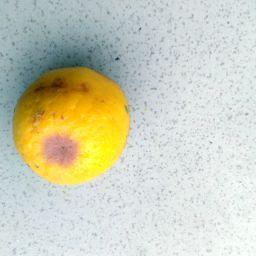Unripe: (12, 70, 129, 187)
